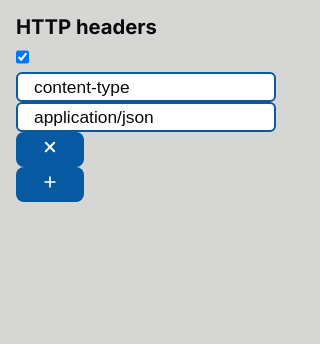
Test: RequestHeaders › add button adds empty enabled header row
Click the 2nd button: coordinates (50, 185) left=16, top=167, right=84, bottom=202
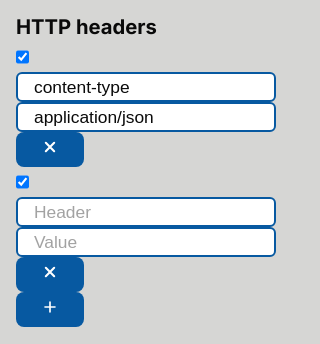
expect the 2nd checkbox is checked: met, box left=16, top=167, right=29, bottom=197
expect the field with placeholder "Header" is empty: met, box left=16, top=197, right=276, bottom=227
expect the field with placeholder "Value" is empty: met, box left=16, top=227, right=276, bottom=257
